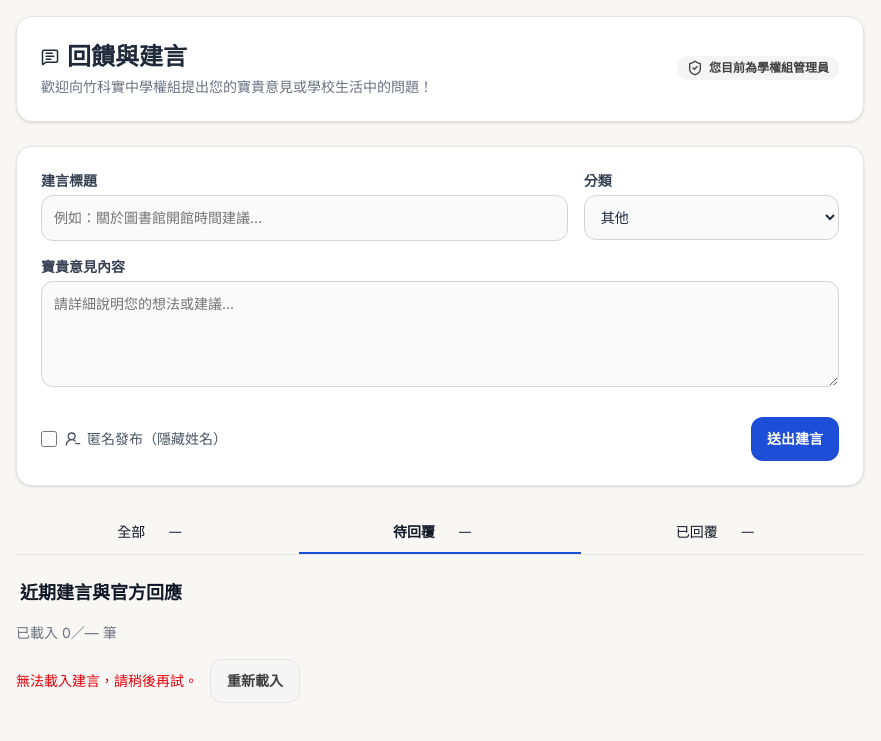
Test: shows unknown totals instead of completion when the queue response is unavailable
Check: the message "無法載入建言，請稍後再試。 重新載入" is shown, box [16,659,300,703]
Check: the text "已載入 0／— 筆" is shown, box [16,624,117,641]
Click the button "重新載入": x=255, y=681 [210,659,300,703]
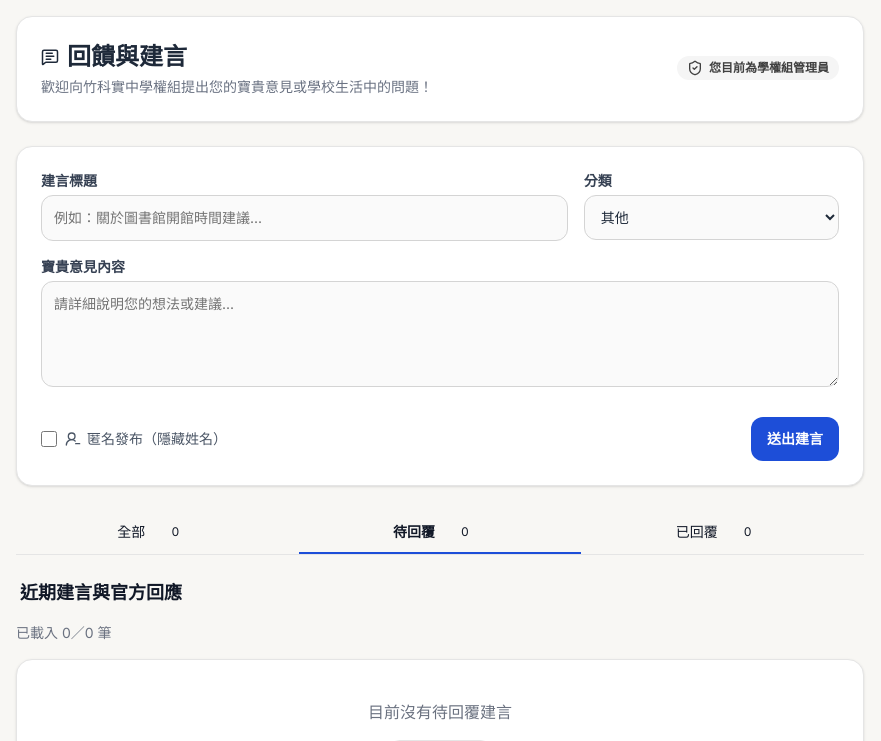
Check: the text "目前沒有待回覆建言" is shown, box [368,702,512,722]
Check: the text "已載入 0／0 筆" is shown, box [16,624,112,641]
